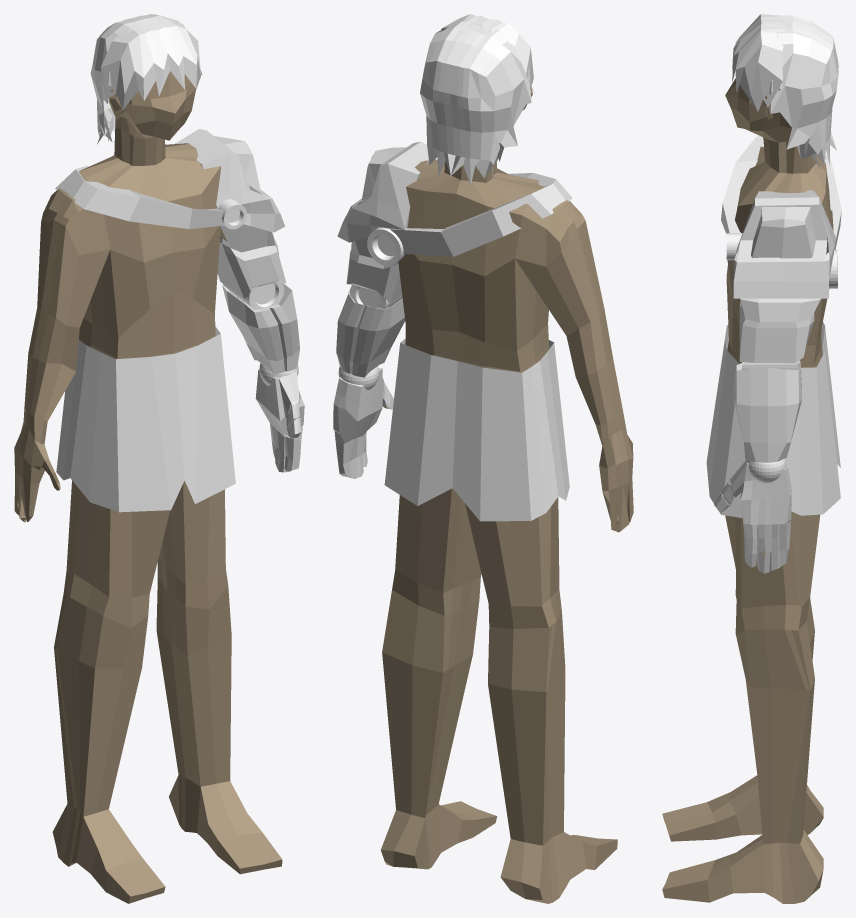
File: scenee.gltf
3 views of the same model, side by side, from view 1: azimuth 30°, elevation 25°; view 2: azimuth 150°, elevation 25°; view 3: azimuth 270°, elevation 25° (orthographic). The views are drawn at different scales.
Visible parts, largest first — view 1: body.004, body, pants.001, pants, Cube.001, strap, hair front.001, Cube.003, Cube.002, Cube.004, hair front, hair back.001 (+1 smaller); view 2: body.004, body, pants.001, pants, hair back.001, Cube.001, strap, hair base, hair base.001, Cube.003, Cube.004, Cube.002 (+2 smaller); view 3: body, pants, Cube.001, hair base, Cube.003, body.004, Cube.004, Cube.002, hair front, strap, screw, pants.001 (+4 smaller).
Boxes of the visible parts, left/top/right/bottom form: body.004: left=14, top=73, right=175, bottom=903; body: left=155, top=71, right=282, bottom=874; pants.001: left=56, top=340, right=184, bottom=512; pants: left=175, top=326, right=235, bottom=503; Cube.001: left=175, top=129, right=284, bottom=232; strap: left=55, top=166, right=223, bottom=228; hair front.001: left=100, top=23, right=169, bottom=109; Cube.003: left=222, top=283, right=299, bottom=374; Cube.002: left=217, top=224, right=286, bottom=298; Cube.004: left=255, top=369, right=304, bottom=472; hair front: left=150, top=18, right=202, bottom=89; hair back.001: left=90, top=17, right=145, bottom=136; body.004: left=452, top=162, right=633, bottom=903; body: left=381, top=159, right=497, bottom=869; pants.001: left=452, top=340, right=569, bottom=521; pants: left=384, top=338, right=457, bottom=505; hair back.001: left=453, top=26, right=531, bottom=161; Cube.001: left=337, top=141, right=437, bottom=242; strap: left=390, top=173, right=572, bottom=256; hair base: left=420, top=21, right=482, bottom=176; hair base.001: left=450, top=65, right=499, bottom=185; Cube.003: left=336, top=289, right=405, bottom=377; Cube.004: left=333, top=368, right=393, bottom=478; Cube.002: left=346, top=237, right=402, bottom=303; body: left=662, top=84, right=833, bottom=903; pants: left=706, top=339, right=840, bottom=517; Cube.001: left=733, top=190, right=836, bottom=298; hair base: left=769, top=24, right=838, bottom=169; Cube.003: left=733, top=360, right=801, bottom=462; body.004: left=662, top=78, right=833, bottom=841; Cube.004: left=714, top=460, right=791, bottom=573; Cube.002: left=739, top=298, right=820, bottom=363; hair front: left=732, top=21, right=787, bottom=111; strap: left=721, top=135, right=841, bottom=249; screw: left=726, top=233, right=837, bottom=369; pants.001: left=709, top=322, right=840, bottom=467.
Size of the model in its own units: 2.85 by 8.11 by 1.56.
10 materials, 4 textured.
